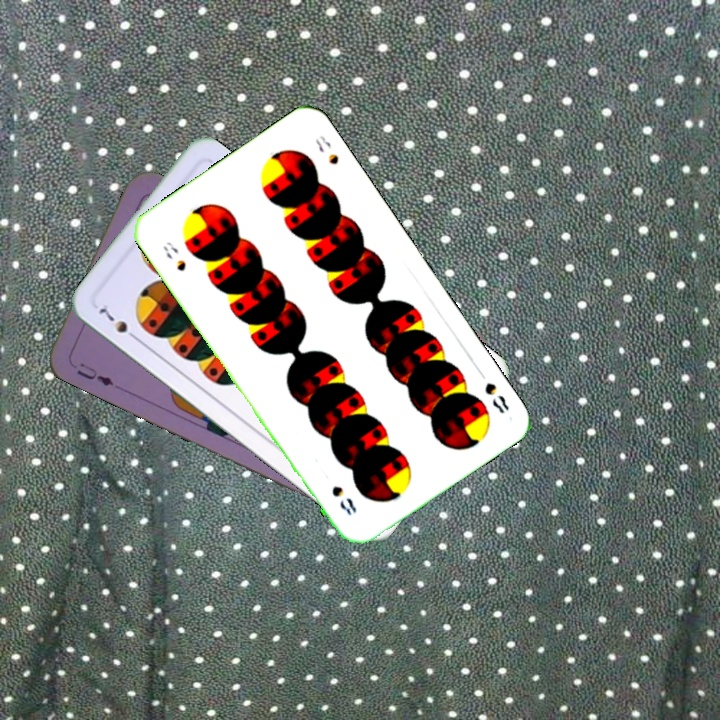EU: (72, 358, 116, 389)
S7: (95, 300, 142, 344)
S8: (480, 378, 512, 417), (158, 237, 189, 274)
